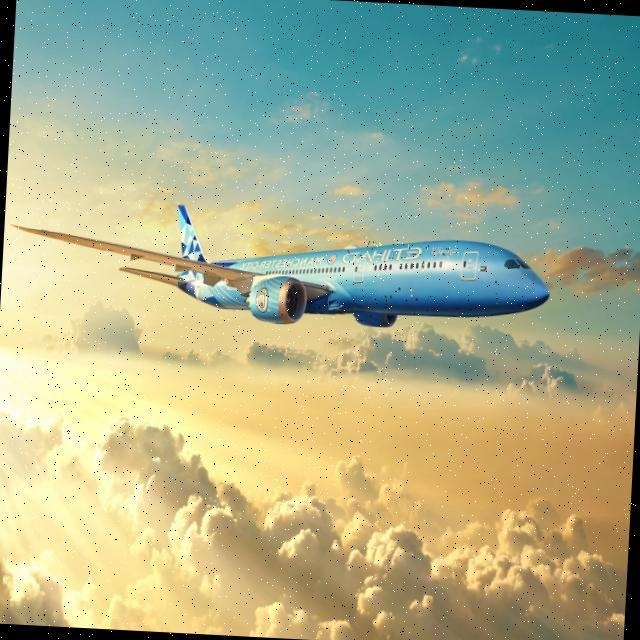Etihad Airways: (342, 240, 459, 270)
